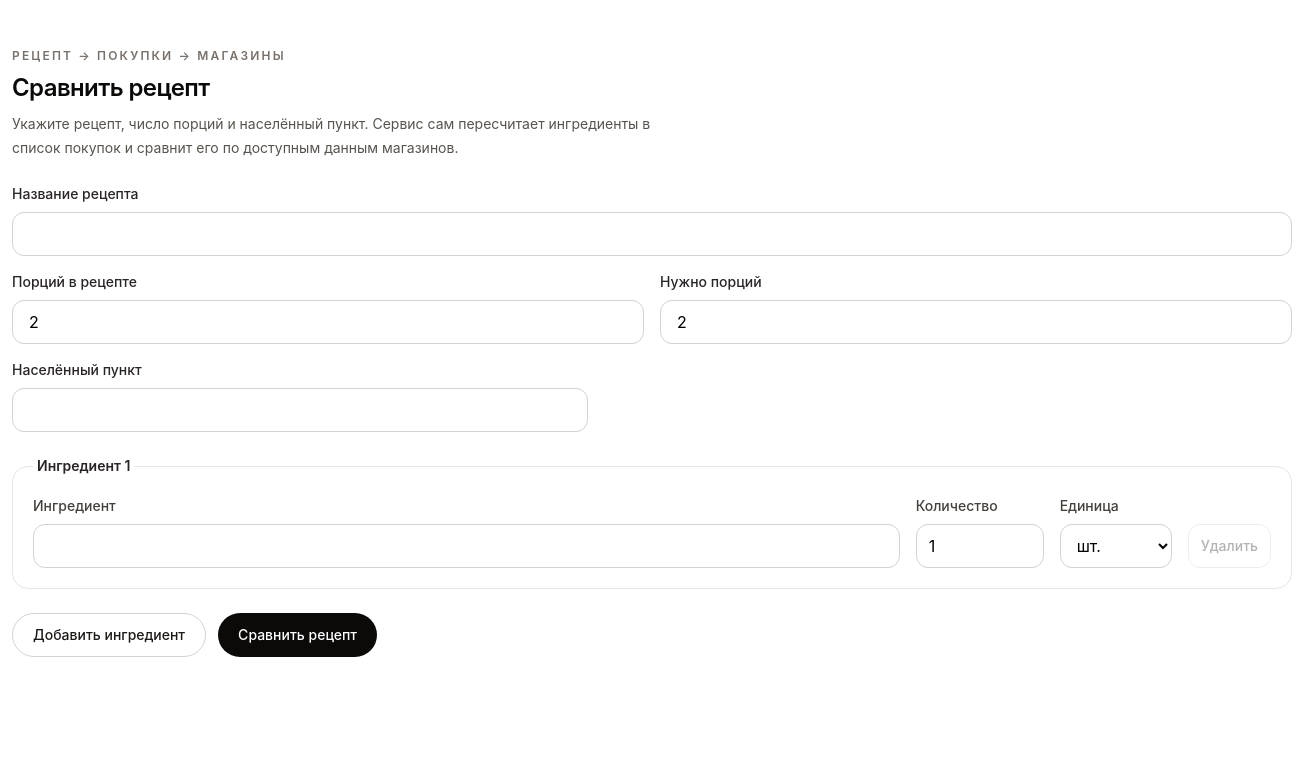
Test: Recipe comparison form › adds and removes ingredient rows without allowing an empty recipe
The image size is (1304, 763).
Click the button "Добавить ингредиент". click: (109,635)
box: [12,613,206,657]
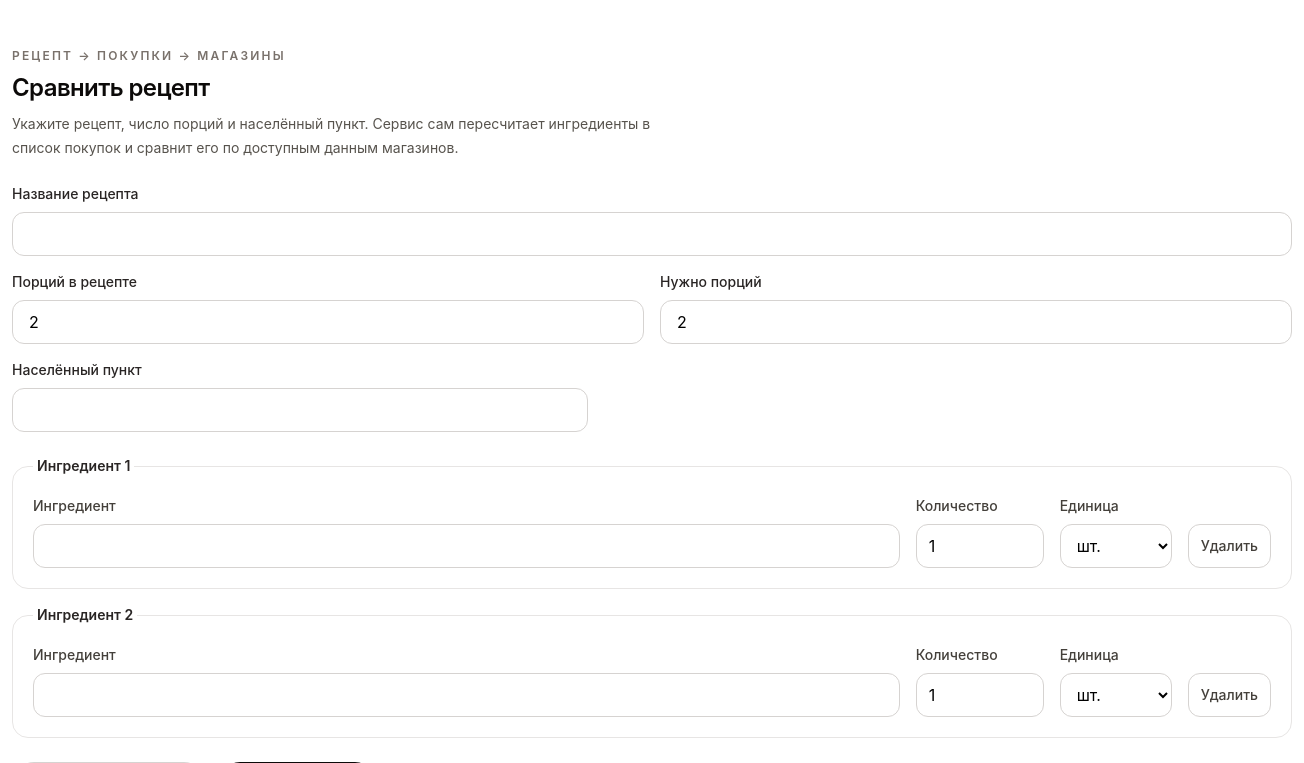
Now the number of fields labelled "Ингредиент" is 2, box [33,524,900,568]; [33,673,900,717]
Now the button with aria-label "Удалить ингредиент" is enabled, box [1188,524,1271,568]
Click the button with aria-label "Удалить ингредиент". click: (1229,695)
box: [1188,673,1271,717]
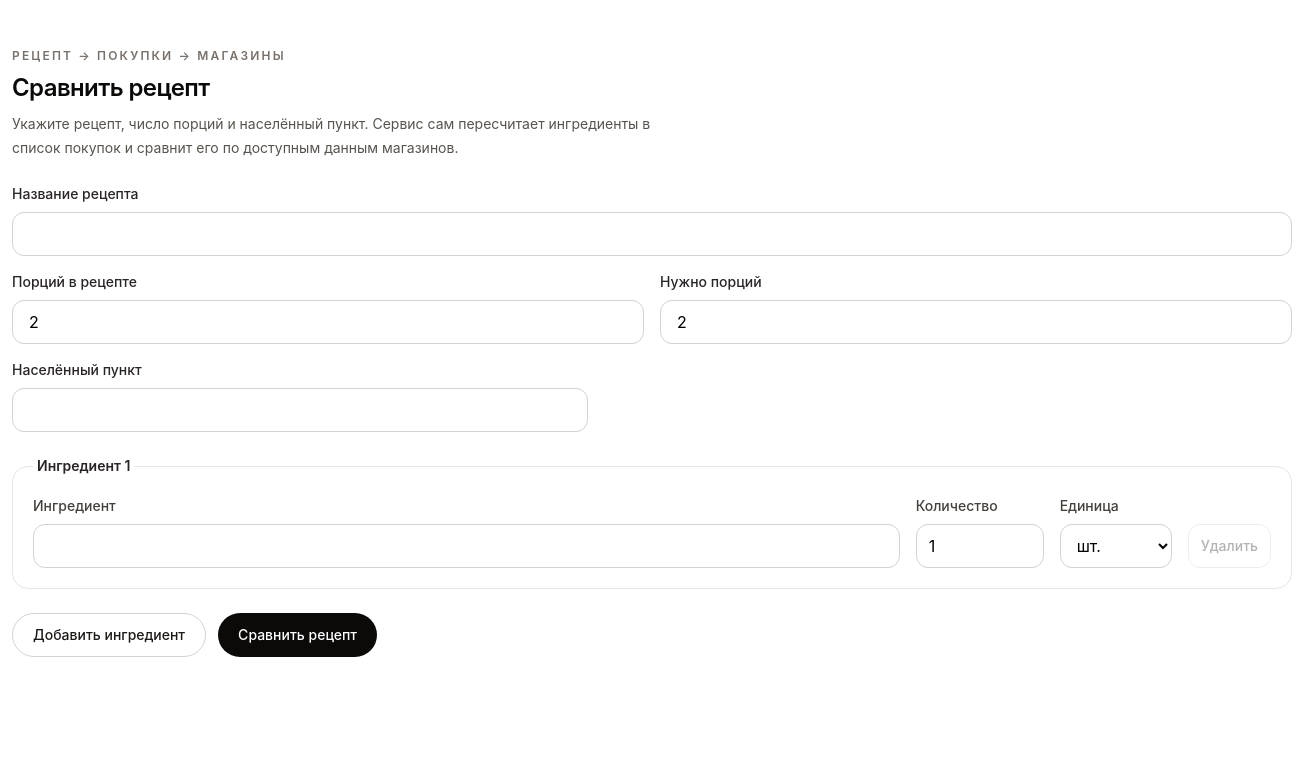
Now the number of fields labelled "Ингредиент" is 1, box [33,524,900,568]
Now the button with aria-label "Удалить ингредиент" is disabled, box [1188,524,1271,568]
